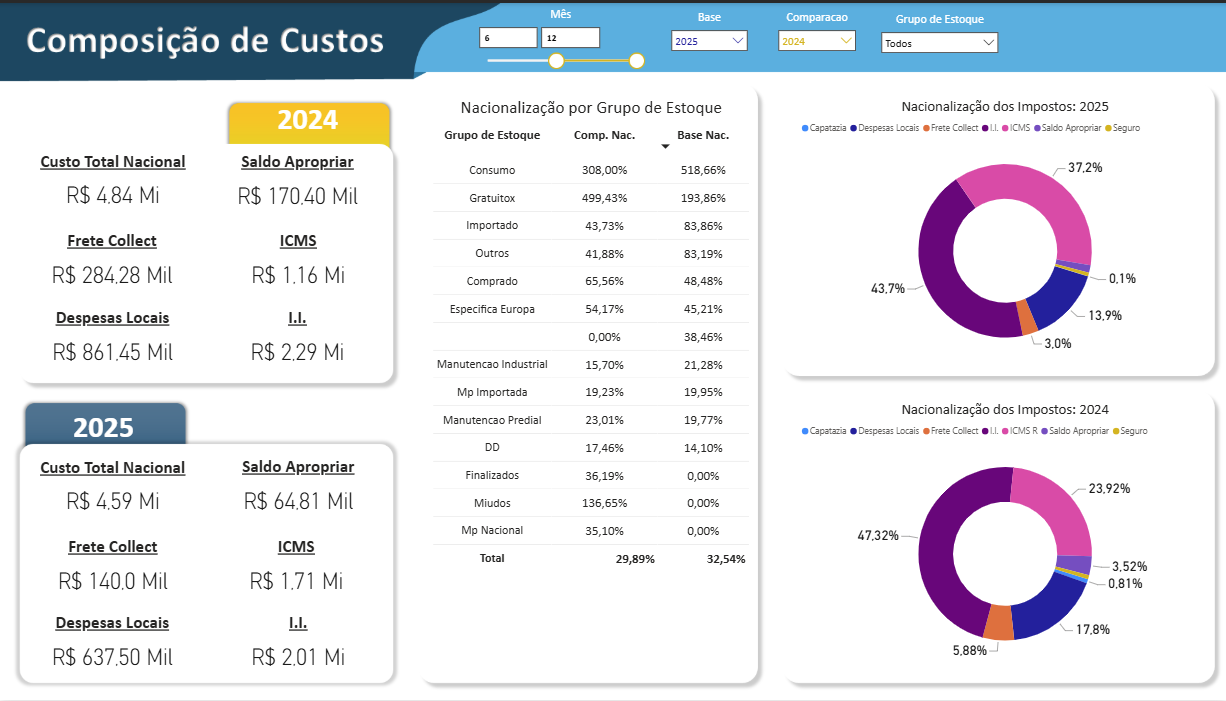

Layout of this report page (visuals, bound fields, positions):
{"tool":"powerbi","page":{"name":"Composição de Custos","canvas":[1900,1080],"ordinal":2},"visuals":[{"type":"donutChart","fields":{"Y":["Medidas.Base Capatazia","Medidas.Base Despesas Locais","Medidas.Base Frete Collect","Medidas.Base I.I.","Medidas.Base ICMS R","Medidas.Base Saldo Apropriar","Medidas.Base Seguro"]},"box":[1236,146,642,420],"z":0},{"type":"donutChart","fields":{"Y":["Medidas.Comparacao Capatazia","Medidas.Comparacao Despesas Locais","Medidas.Comparacao Frete Collect","Medidas.Comparacao I.I.","Medidas.Comparacao ICMS R","Medidas.Comparacao Saldo Apropriar","Medidas.Comparacao Seguro"]},"box":[1236,616,642,420],"z":1000},{"type":"card","title":"Custo Total Nacional","fields":{"Values":["Medidas.Comparacao Custo Total Nacional"]},"box":[46,704,256.7,98.3],"z":2000},{"type":"pivotTable","title":"Nacionalização por Grupo de Estoque","fields":{"Rows":["DADOS IMPORTAÇÃO.GE DESCRIÇÃO"],"Values":["Medidas.Comparacao % Nacionalização","Medidas.Base % Nacionalização"]},"box":[666,146,500,902],"z":3000},{"type":"actionButton","box":[94.3,628.6,131.7,60],"z":4000},{"type":"actionButton","box":[417.1,151.4,120,60],"z":5000},{"type":"card","title":"Despesas Locais","fields":{"Values":["Medidas.Base Despesas Locais"]},"box":[46,944,255,100],"z":6000},{"type":"card","title":"Frete Collect","fields":{"Values":["Medidas.Base Frete Collect"]},"box":[46,826,256.7,100],"z":7000},{"type":"card","title":"I.I.","fields":{"Values":["Medidas.Base I.I."]},"box":[334,944,255,100],"z":12000},{"type":"card","title":"ICMS","fields":{"Values":["Medidas.Base ICMS R"]},"box":[332,826,255,100],"z":13000},{"type":"card","title":"Saldo Apropriar","fields":{"Values":["Medidas.Base Saldo Apropriar"]},"box":[334,702,255,100],"z":14000},{"type":"card","title":"Custo Total Nacional","fields":{"Values":["Medidas.Comparacao Custo Total Nacional"]},"box":[47.1,230,257.1,98.6],"z":15000},{"type":"card","title":"Despesas Locais","fields":{"Values":["Medidas.Comparacao Despesas Locais"]},"box":[47.1,470.4,255.7,100],"z":16000},{"type":"card","title":"Frete Collect","fields":{"Values":["Medidas.Comparacao Frete Collect"]},"box":[45.7,351.9,257.1,100],"z":17000},{"type":"card","title":"I.I.","fields":{"Values":["Medidas.Comparacao I.I."]},"box":[332.9,470.4,255.7,100],"z":18000},{"type":"card","title":"ICMS","fields":{"Values":["Medidas.Comparacao ICMS R"]},"box":[334.3,351.9,255,100],"z":19000},{"type":"card","title":"Saldo Apropriar","fields":{"Values":["Medidas.Comparacao Saldo Apropriar"]},"box":[332.9,230,255.7,100],"z":20000},{"type":"slicer","title":"Comparacao","fields":{"Values":["fAno_Base.Ano"]},"box":[1196,10,140,78.9],"z":20001},{"type":"slicer","title":"Grupo de Estoque","fields":{"Values":["DADOS IMPORTAÇÃO.GE DESCRIÇÃO","DADOS IMPORTAÇÃO.CÓD. DI"]},"box":[1356,12,201.2,76.2],"z":20002},{"type":"slicer","title":"Base","fields":{"Values":["fAno_Comparacao.Ano"]},"box":[1030,10,137.8,78.9],"z":20003},{"type":"slicer","title":"Mês","fields":{"Values":["Calendario.Mes Nº"]},"box":[730,4,278,110],"z":20004}]}

Visuals, with their boxes in screenshot pixels (x1, y1, x2, y2), scaled from the page's 1900x1080 canvas onto the 1226x701 screenshot:
donutChart - Medidas.Base Capatazia x Medidas.Base Despesas Locais: rect(798, 95, 1212, 367)
donutChart - Medidas.Comparacao Capatazia x Medidas.Comparacao Despesas Locais: rect(798, 400, 1212, 672)
"Custo Total Nacional" card: rect(30, 457, 195, 521)
"Nacionalização por Grupo de Estoque" pivotTable: rect(430, 95, 752, 680)
actionButton: rect(61, 408, 146, 447)
actionButton: rect(269, 98, 347, 137)
"Despesas Locais" card: rect(30, 613, 194, 678)
"Frete Collect" card: rect(30, 536, 195, 601)
"I.I." card: rect(216, 613, 380, 678)
"ICMS" card: rect(214, 536, 379, 601)
"Saldo Apropriar" card: rect(216, 456, 380, 521)
"Custo Total Nacional" card: rect(30, 149, 196, 213)
"Despesas Locais" card: rect(30, 305, 195, 370)
"Frete Collect" card: rect(29, 228, 195, 293)
"I.I." card: rect(215, 305, 380, 370)
"ICMS" card: rect(216, 228, 380, 293)
"Saldo Apropriar" card: rect(215, 149, 380, 214)
"Comparacao" slicer: rect(772, 6, 862, 58)
"Grupo de Estoque" slicer: rect(875, 8, 1005, 57)
"Base" slicer: rect(665, 6, 754, 58)
"Mês" slicer: rect(471, 3, 650, 74)
